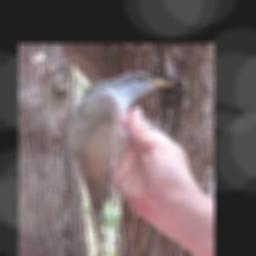Cuckoo: (66, 72, 174, 256)
